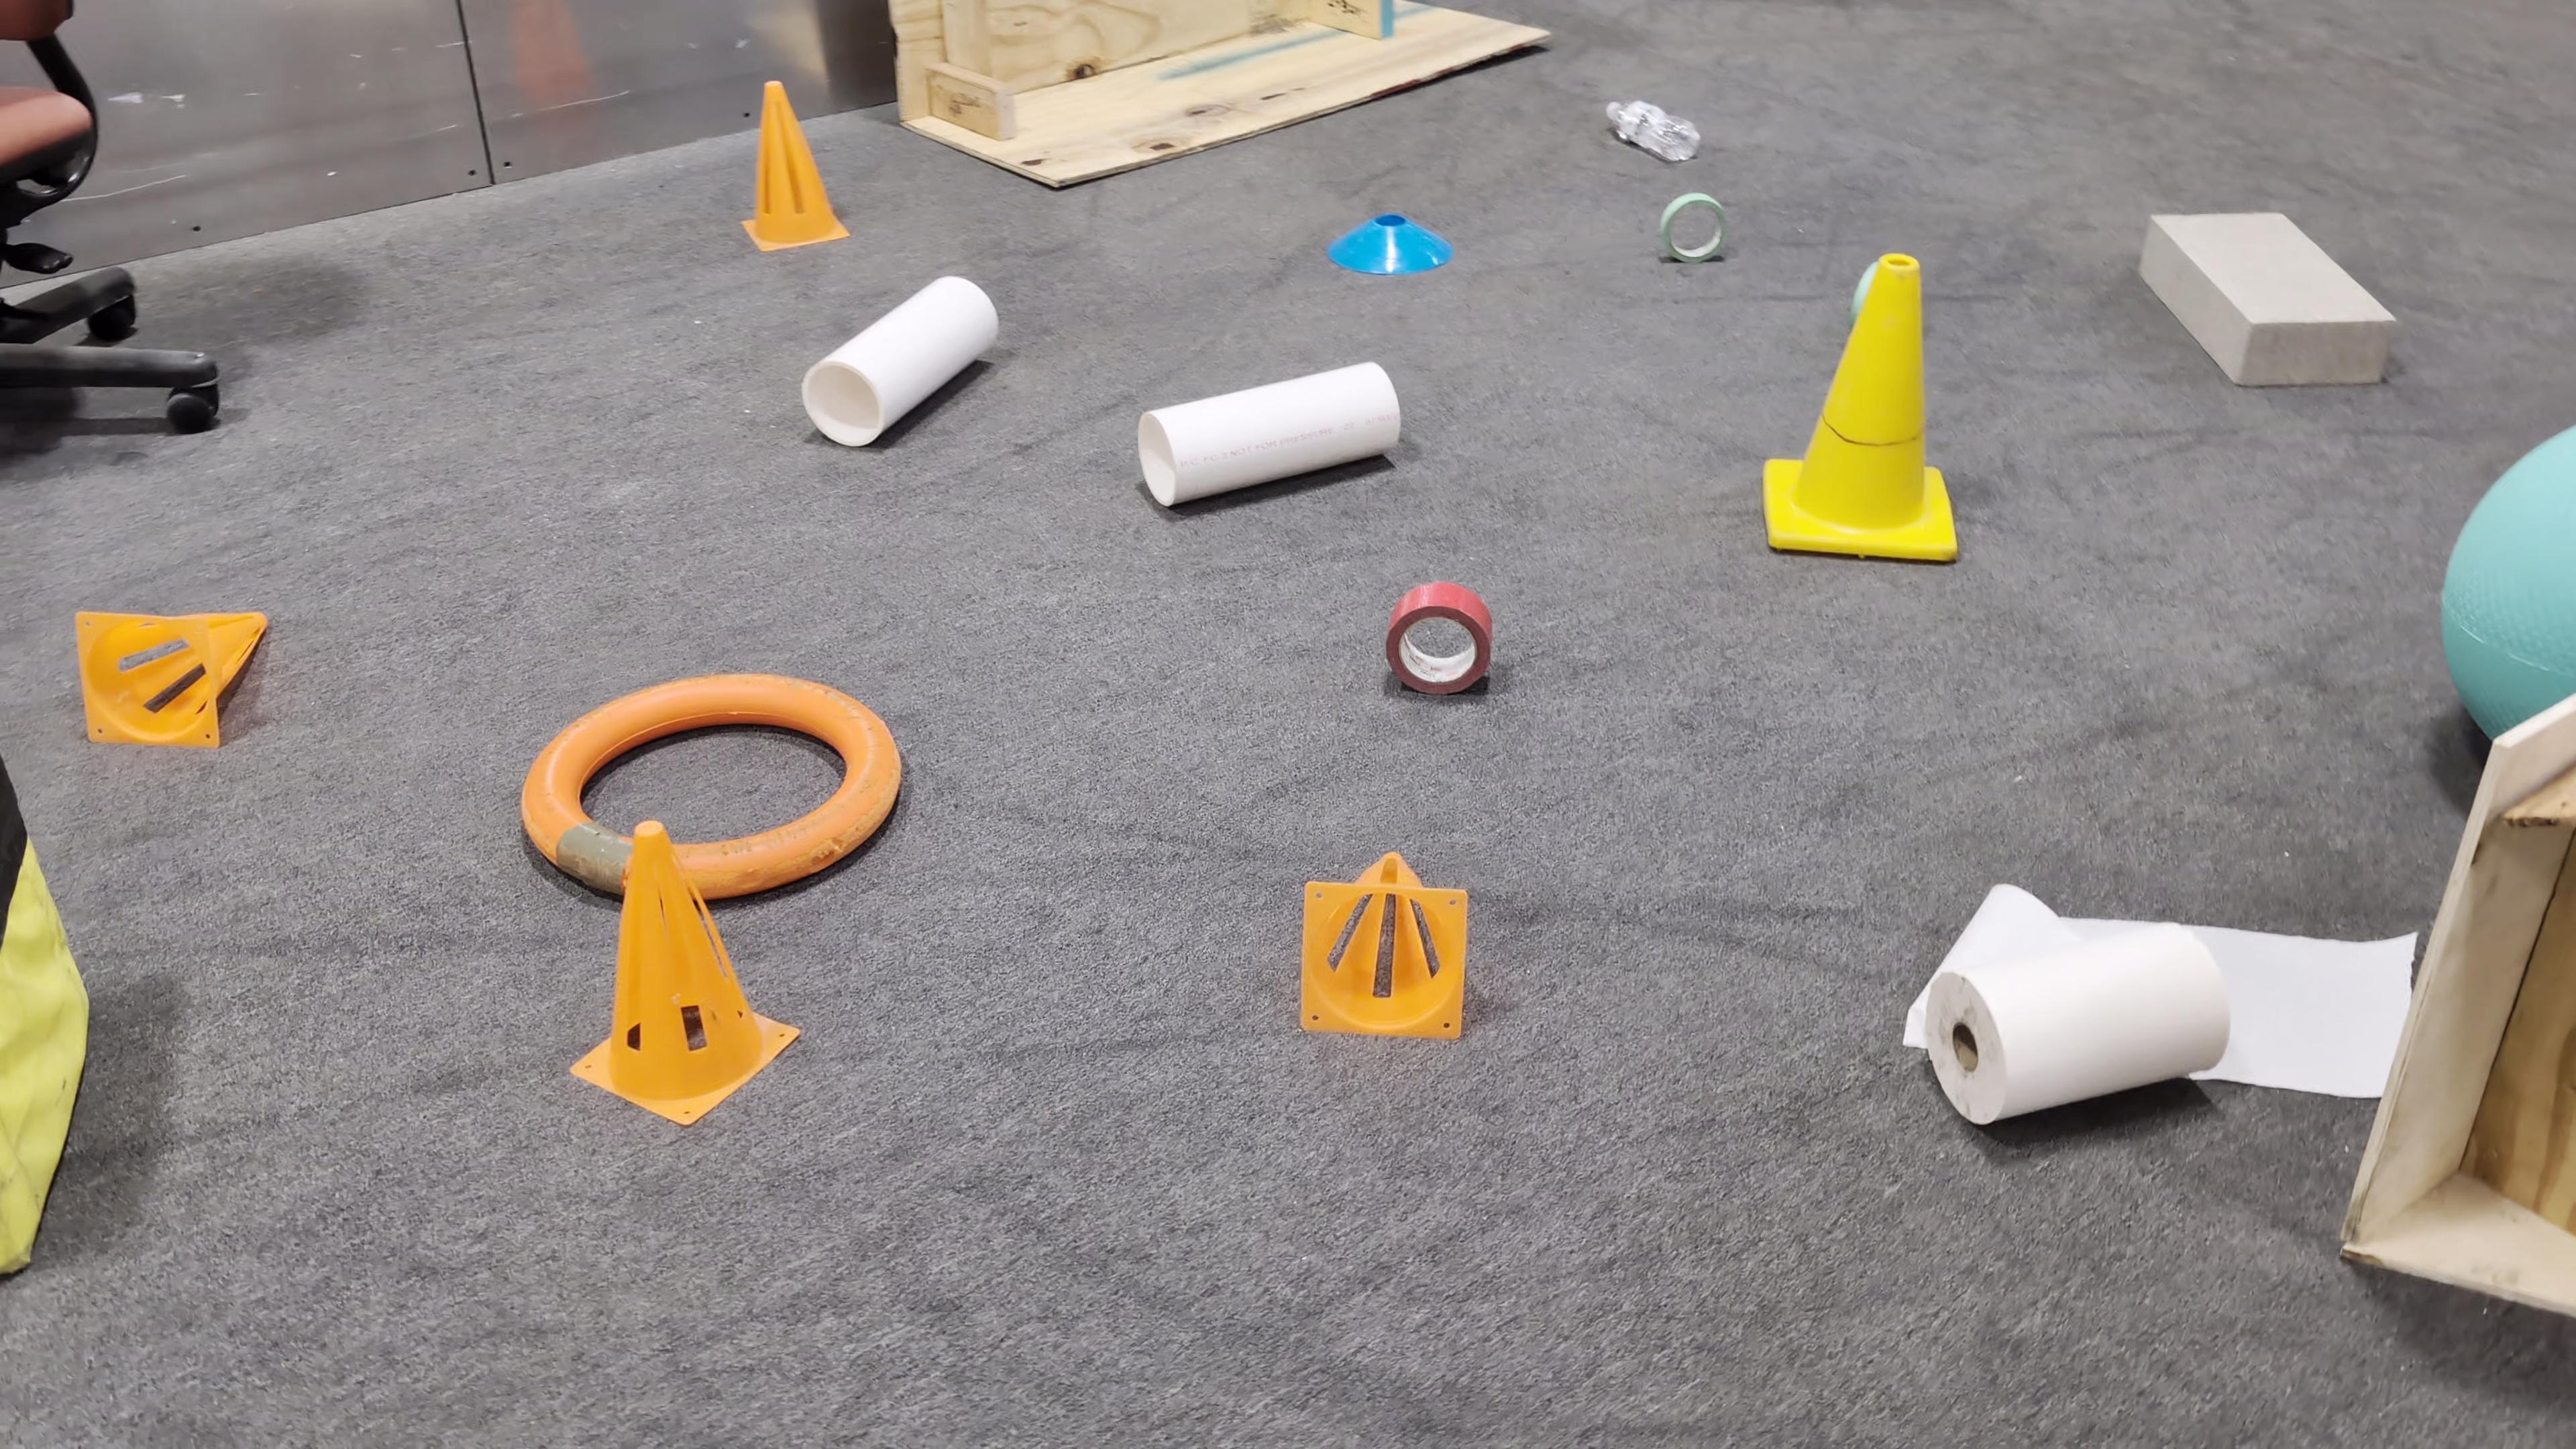coral: (2445, 402, 2576, 738), (1140, 362, 1401, 506), (803, 276, 1001, 448)
